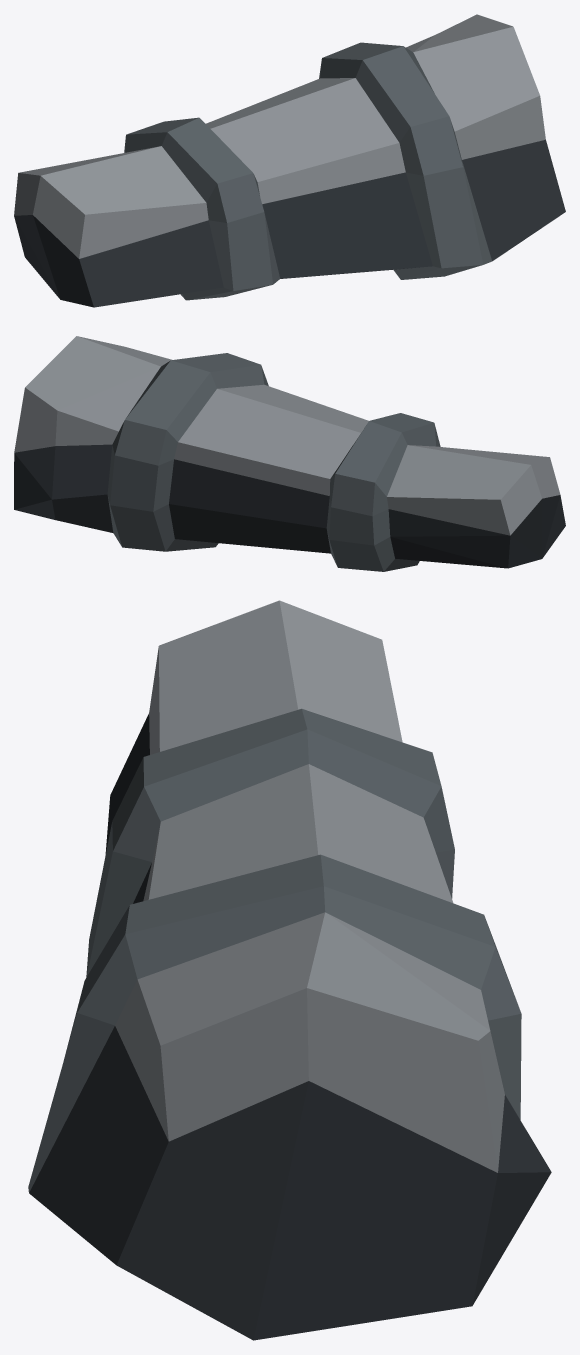
The model's file is Chr_ArmLowerRight_Male_16_Static.fbx.
3 renders of one model, top to bottom at view 1: azimuth 30°, elevation 25°; view 2: azimuth 150°, elevation 25°; view 3: azimuth 270°, elevation 25°, orthographic. The views are drawn at different scales.
Visible parts, largest first — view 1: Chr_ArmLowerRight_Male_16_Static; view 2: Chr_ArmLowerRight_Male_16_Static; view 3: Chr_ArmLowerRight_Male_16_Static.
Boxes of the visible parts, x1=… form: Chr_ArmLowerRight_Male_16_Static: x1=14, y1=14, x2=565, y2=307; Chr_ArmLowerRight_Male_16_Static: x1=14, y1=336, x2=565, y2=571; Chr_ArmLowerRight_Male_16_Static: x1=28, y1=600, x2=551, y2=1340.
Bounding box in the file's own units: 0.2896 × 0.1177 × 0.1373.
